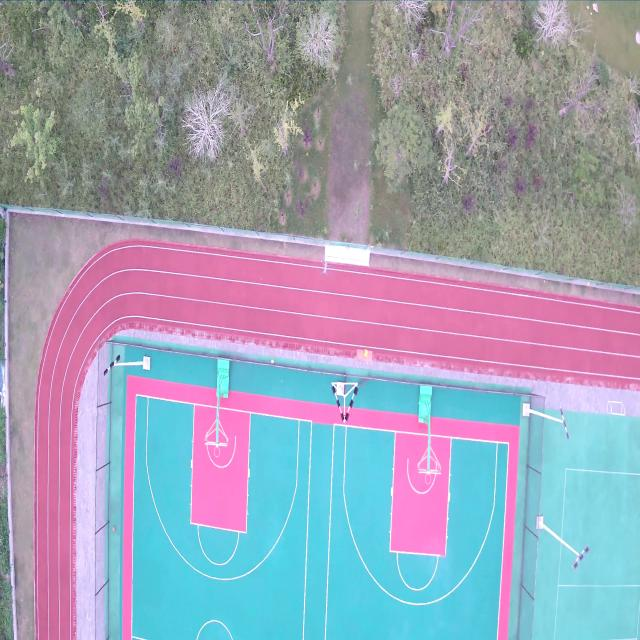UAV: (319, 260, 332, 278)
